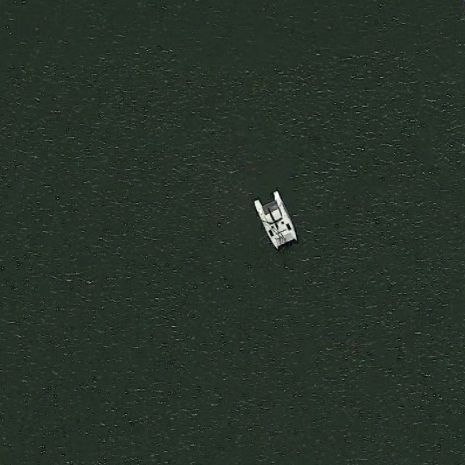boat: (253, 190, 298, 249)
